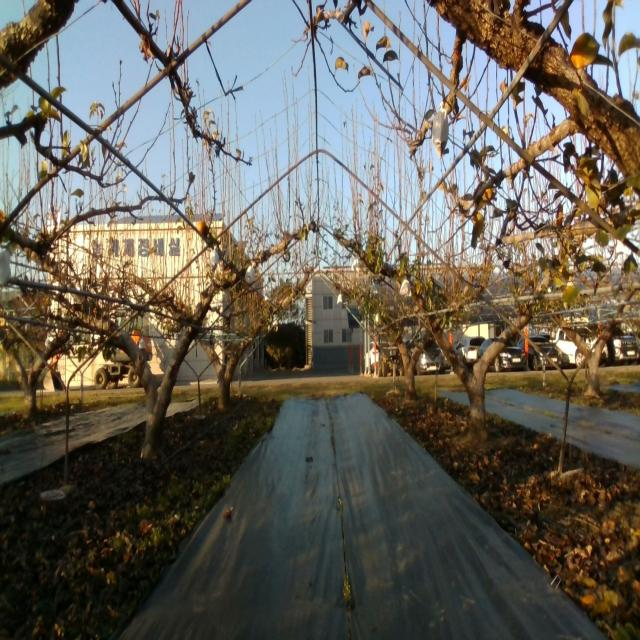pearbags: (432, 101, 449, 162), (0, 246, 13, 294), (210, 245, 220, 273), (399, 279, 412, 298)
